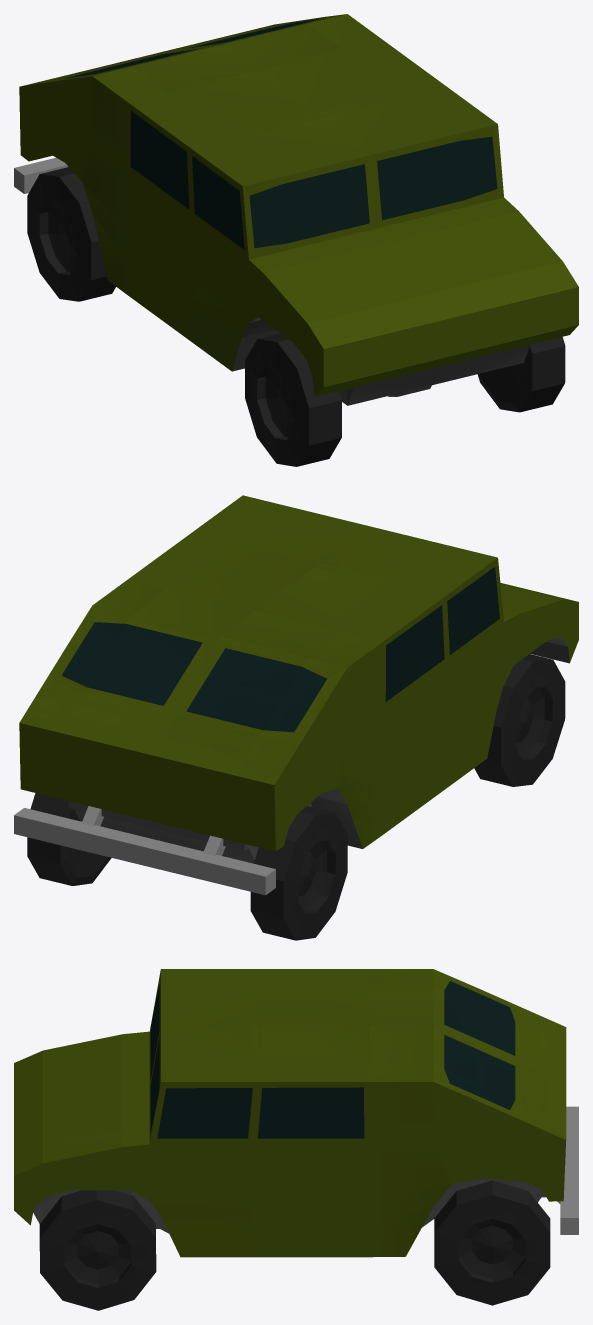
File: MM_Level2_Humvee.fbx
The picture shows the model from 3 angles, top to bottom: view 1: azimuth 30°, elevation 25°; view 2: azimuth 150°, elevation 25°; view 3: azimuth 270°, elevation 25°; orthographic projection. The views are drawn at different scales.
Visible parts, largest first — view 1: Humvee; view 2: Humvee; view 3: Humvee.
Part boxes in pixels (x1,y1,x2,y2): Humvee: (14, 14, 578, 466); Humvee: (14, 495, 578, 940); Humvee: (14, 969, 578, 1310).
Bounding box in the file's own units: 500 × 465 × 1042.
